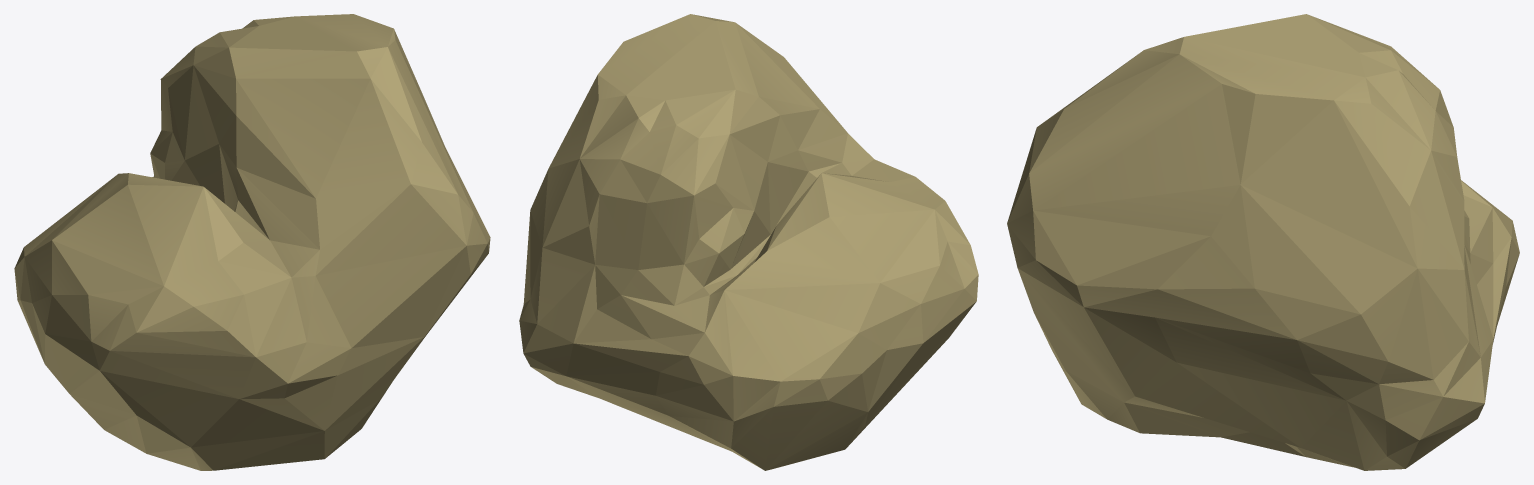
The model's file is SM_rock_37.fbx.
The picture shows the model from 3 angles, left to right: view 1: azimuth 30°, elevation 25°; view 2: azimuth 150°, elevation 25°; view 3: azimuth 270°, elevation 25°; orthographic projection. The views are drawn at different scales.
Visible parts, largest first — view 1: rock_37; view 2: rock_37; view 3: rock_37.
Boxes of the visible parts, bbox=[...] form: rock_37: bbox=[14, 14, 490, 470]; rock_37: bbox=[519, 14, 978, 470]; rock_37: bbox=[1007, 14, 1519, 470].
Size of the model in its own units: 147 by 140 by 146.
